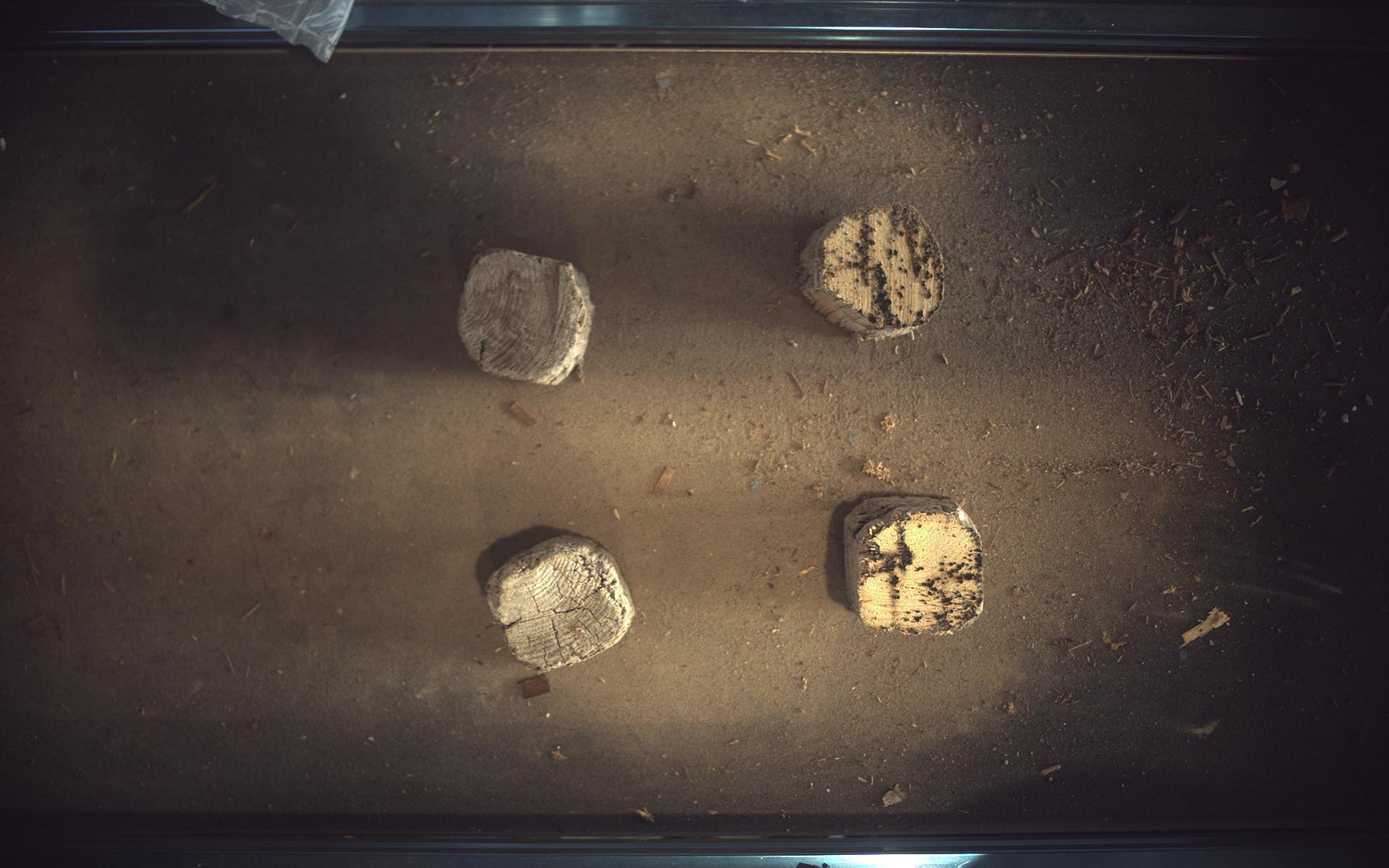wood: (487, 535, 635, 671), (801, 204, 946, 339), (846, 496, 985, 635), (459, 248, 595, 385)
